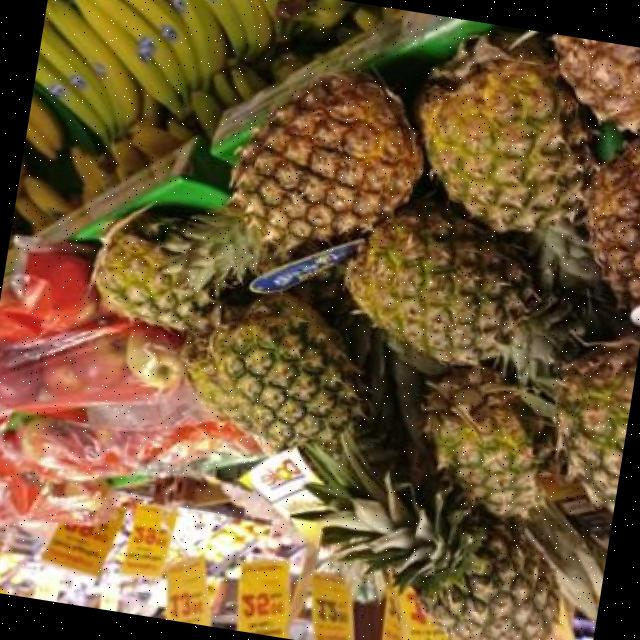pineapple: (295, 372, 559, 640), (126, 75, 422, 288), (416, 31, 599, 290), (345, 199, 569, 371), (183, 293, 362, 452), (424, 368, 545, 517), (555, 338, 640, 512), (93, 208, 209, 330), (587, 141, 640, 305), (552, 36, 640, 133)
